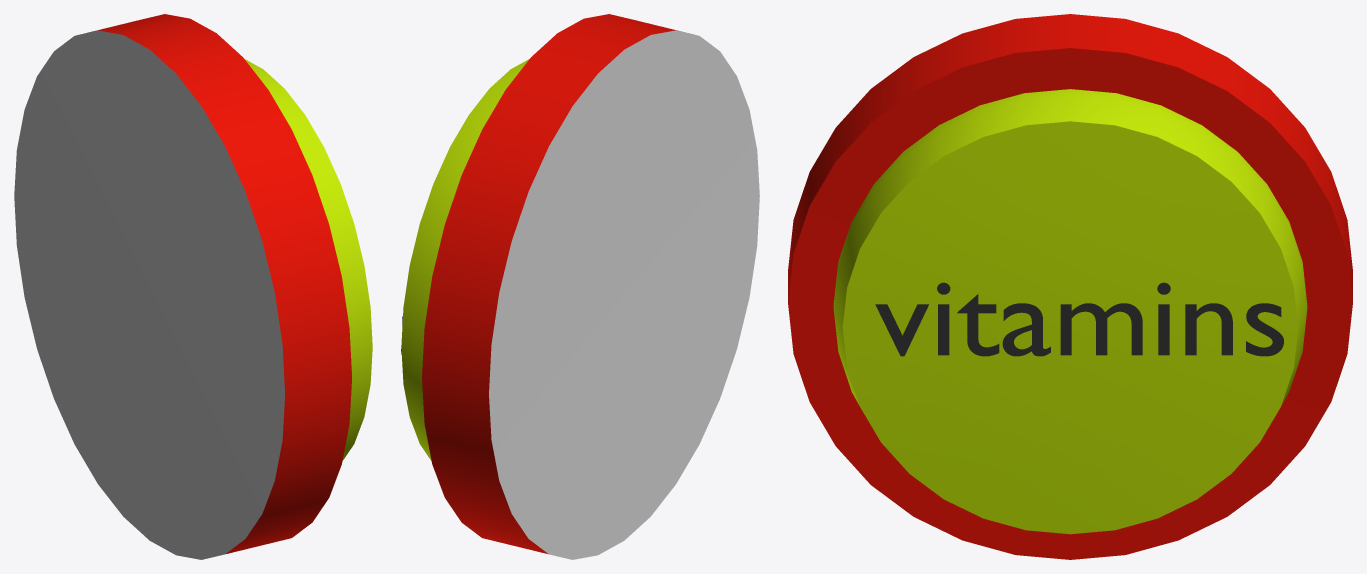
Rendered from vitamins.gltf.
The picture shows the model from 3 angles, left to right: view 1: azimuth 30°, elevation 25°; view 2: azimuth 150°, elevation 25°; view 3: azimuth 270°, elevation 25°; orthographic projection. The views are drawn at different scales.
Parts seen in each view (by area): view 1: Cylinder; view 2: Cylinder; view 3: Cylinder, Text.
Part boxes in pixels (x1,y1,x2,y2): Cylinder: [14, 14, 372, 559]; Cylinder: [401, 14, 759, 559]; Cylinder: [788, 14, 1352, 559]; Text: [875, 282, 1283, 356].
Size of the model in its own units: 0.4189 by 1.63 by 1.63.
